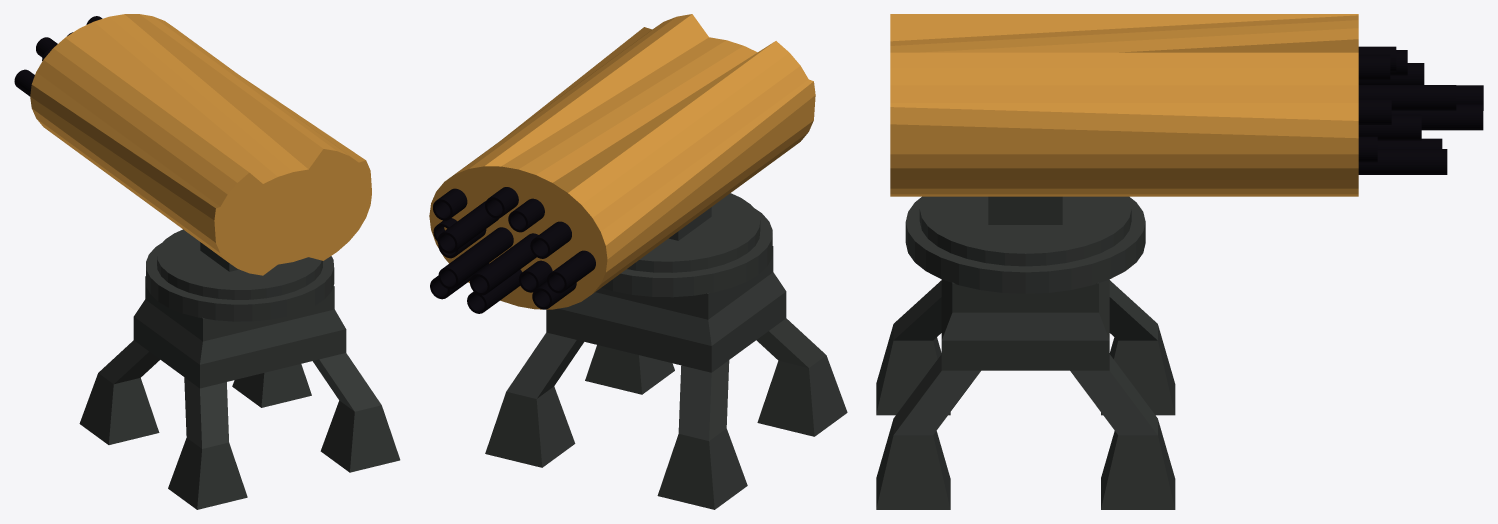
File: Tower_Machinegun.fbx
3 views of the same model, side by side, from view 1: azimuth 30°, elevation 25°; view 2: azimuth 150°, elevation 25°; view 3: azimuth 270°, elevation 25° (orthographic). The views are drawn at different scales.
Parts seen in each view (by area): view 1: Cylinder.001, Cube, Cylinder, Cylinder.007; view 2: Cylinder.001, Cube, Cylinder.007, Cylinder; view 3: Cylinder.001, Cube, Cylinder, Cylinder.007.
Boxes of the visible parts, box(x1,y1,x2,y2) form: Cylinder.001: box(30, 14, 371, 275); Cube: box(79, 276, 400, 509); Cylinder: box(146, 229, 334, 321); Cylinder.007: box(14, 16, 102, 96); Cylinder.001: box(429, 14, 815, 309); Cube: box(485, 246, 847, 509); Cylinder.007: box(430, 187, 595, 313); Cylinder: box(601, 193, 772, 297); Cylinder.001: box(890, 14, 1358, 196); Cube: box(876, 279, 1175, 509); Cylinder: box(905, 196, 1145, 293); Cylinder.007: box(1358, 46, 1483, 174).
Bounding box in the file's own units: 802 × 1243 × 1634.
